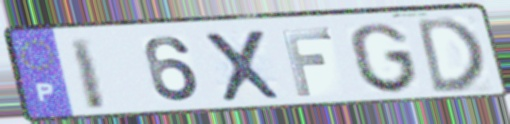6: (141, 35, 203, 105)
D: (413, 14, 488, 97)
F: (278, 26, 336, 99)
G: (346, 21, 422, 96)
I: (65, 35, 110, 113)
X: (199, 27, 287, 105)
